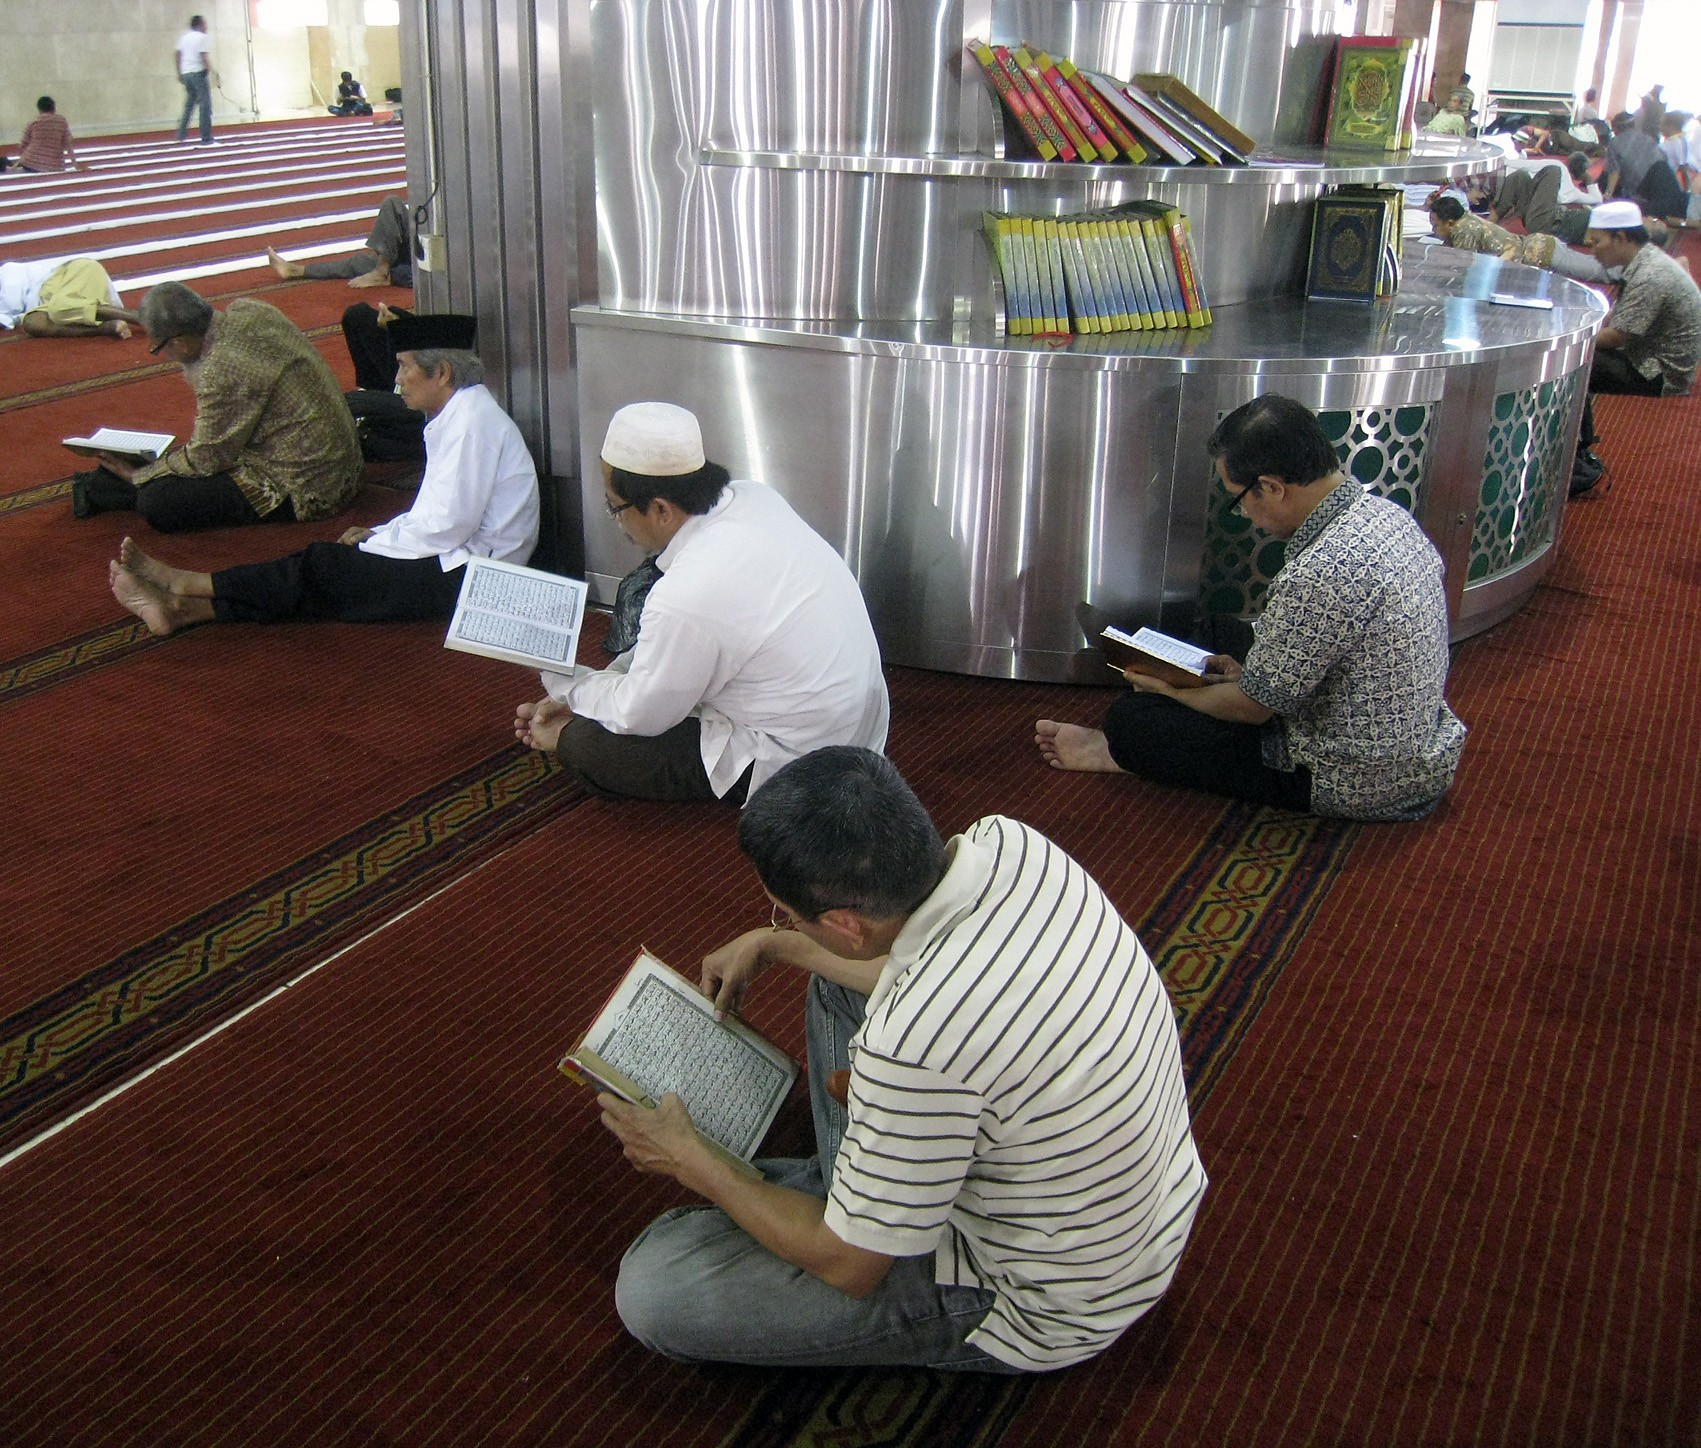buku: (966, 24, 1264, 164), (986, 205, 1221, 338), (1321, 22, 1419, 160), (1300, 179, 1398, 317)
person: (602, 750, 1219, 1366), (507, 387, 917, 781), (1115, 420, 1472, 826), (58, 295, 364, 540), (166, 1, 233, 158)
